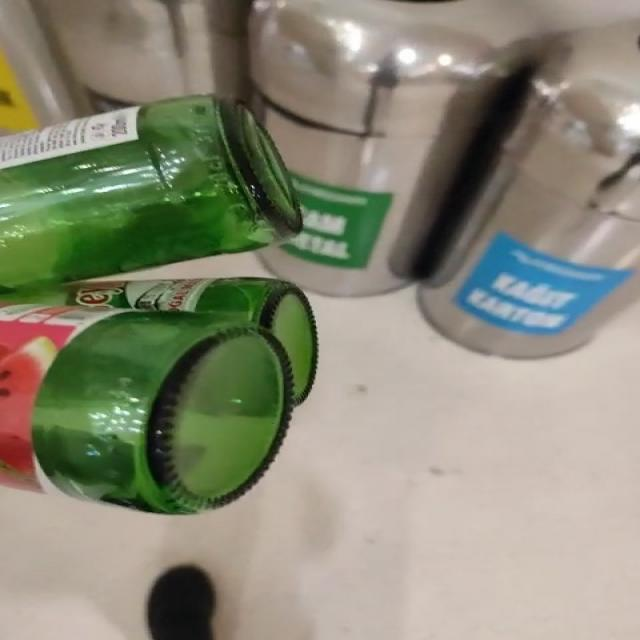Bin: (41, 0, 640, 358)
Glass: (0, 95, 317, 515)
